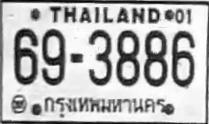3: (87, 29, 111, 85)
6: (171, 30, 195, 87), (13, 28, 37, 84)
8: (143, 29, 167, 86), (115, 29, 139, 85)
9: (41, 28, 65, 85)
BKK: (42, 93, 165, 120)
